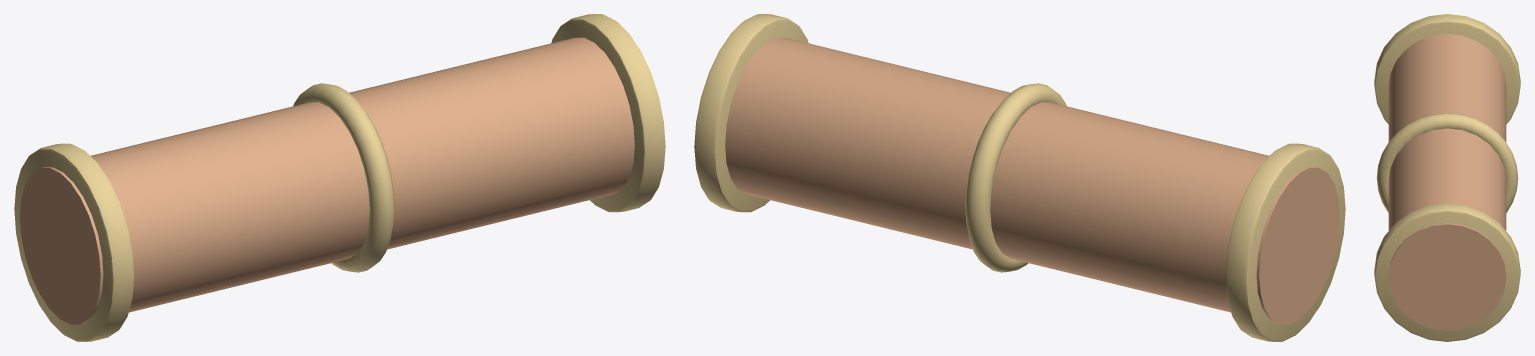
The model's file is Cano.fbx.
3 views of the same model, side by side, from view 1: azimuth 30°, elevation 25°; view 2: azimuth 150°, elevation 25°; view 3: azimuth 270°, elevation 25° (orthographic). The views are drawn at different scales.
Parts seen in each view (by area): view 1: Cano; view 2: Cano; view 3: Cano.
Part boxes in pixels (box(x1,y1,x2,y2)): Cano: box(14, 14, 665, 341); Cano: box(694, 14, 1345, 341); Cano: box(1374, 14, 1520, 341).
Bounding box in the file's own units: 2 × 0.62 × 0.62.
